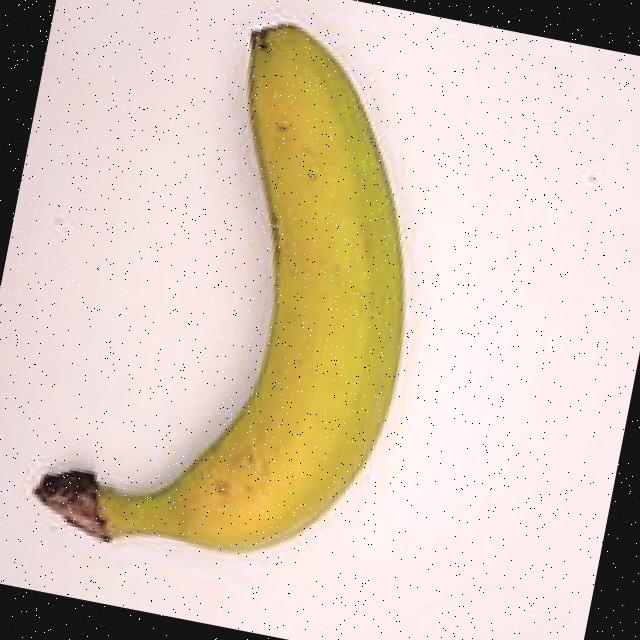Unripe: (2, 0, 490, 611)
